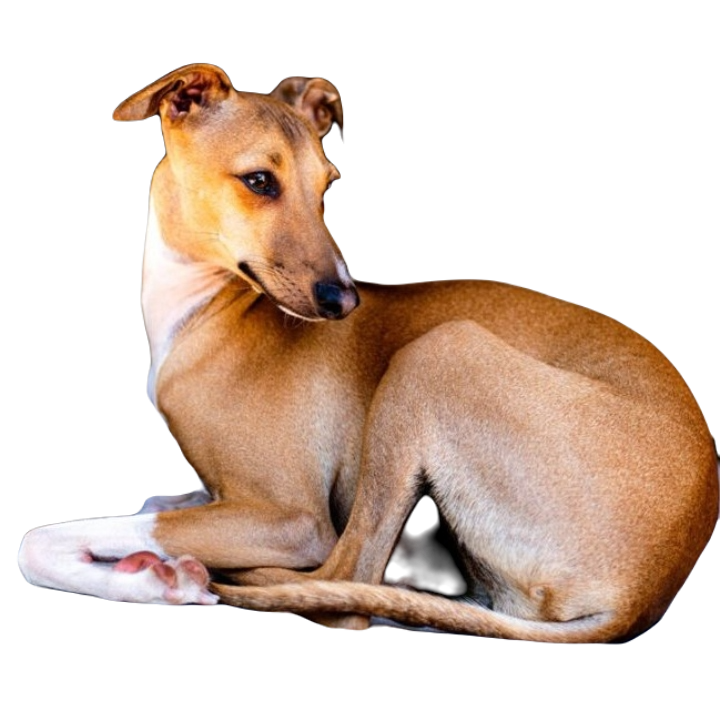Dog: (16, 63, 716, 644)
